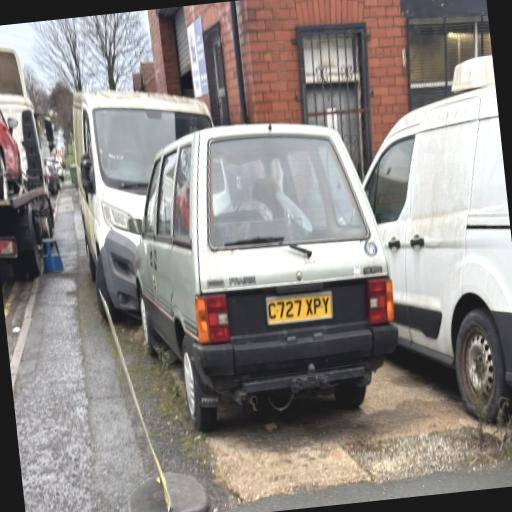numberplates: (267, 292, 333, 325)
